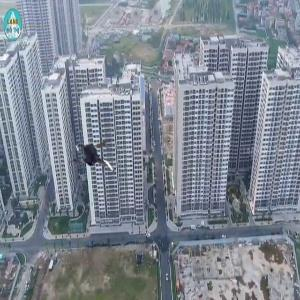drone: (67, 133, 125, 191)
